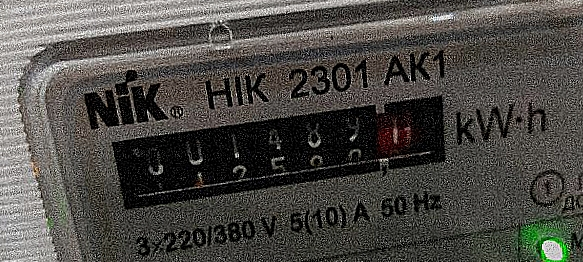0: (180, 130, 207, 168), (141, 143, 167, 179)
1: (384, 108, 405, 147), (224, 129, 245, 160)
4: (262, 120, 286, 152)
8: (302, 114, 325, 151)
9: (342, 110, 363, 143)
screen: (96, 69, 478, 238)
